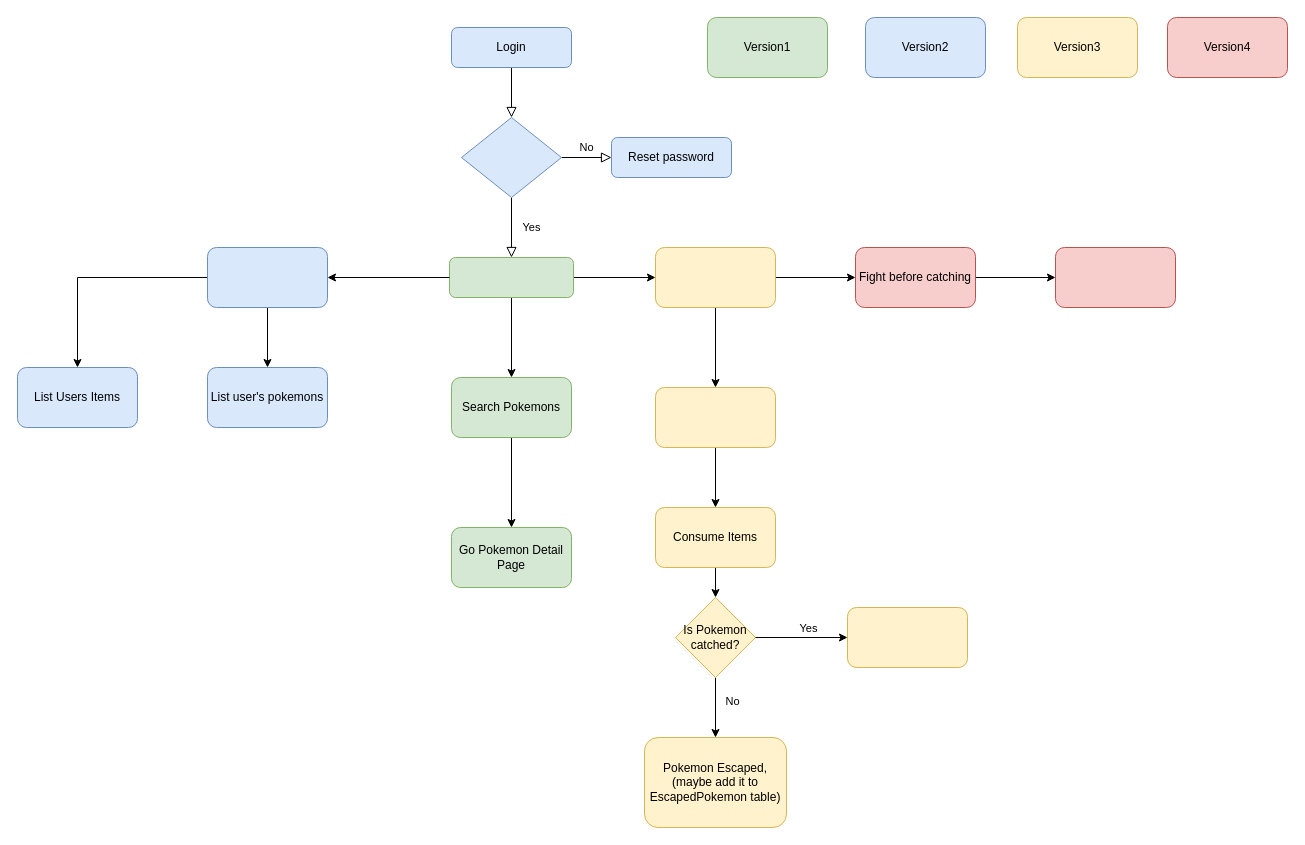
This 1305x845 diagram has some shape labels left out. Each missing label, with the box of its shape:
Add it to user's Pokemons: (846, 606, 968, 668)
Evolution System: (1054, 246, 1176, 308)
Go Pokemon Hunt: (654, 246, 776, 308)
Go User Detail: (206, 246, 328, 308)
List Pokemons at left side bar (Pokedex): (448, 256, 574, 298)
Login successfull?: (460, 116, 562, 198)
Try catching Pokemon: (654, 386, 776, 448)
